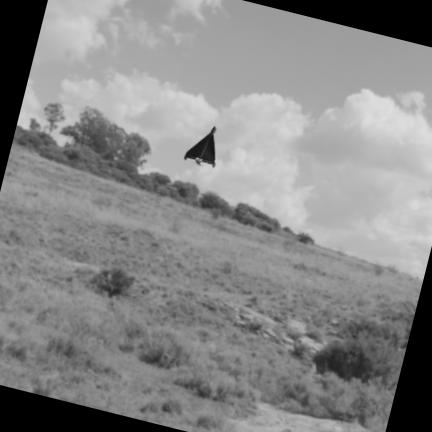Shahed: (184, 126, 214, 167)
